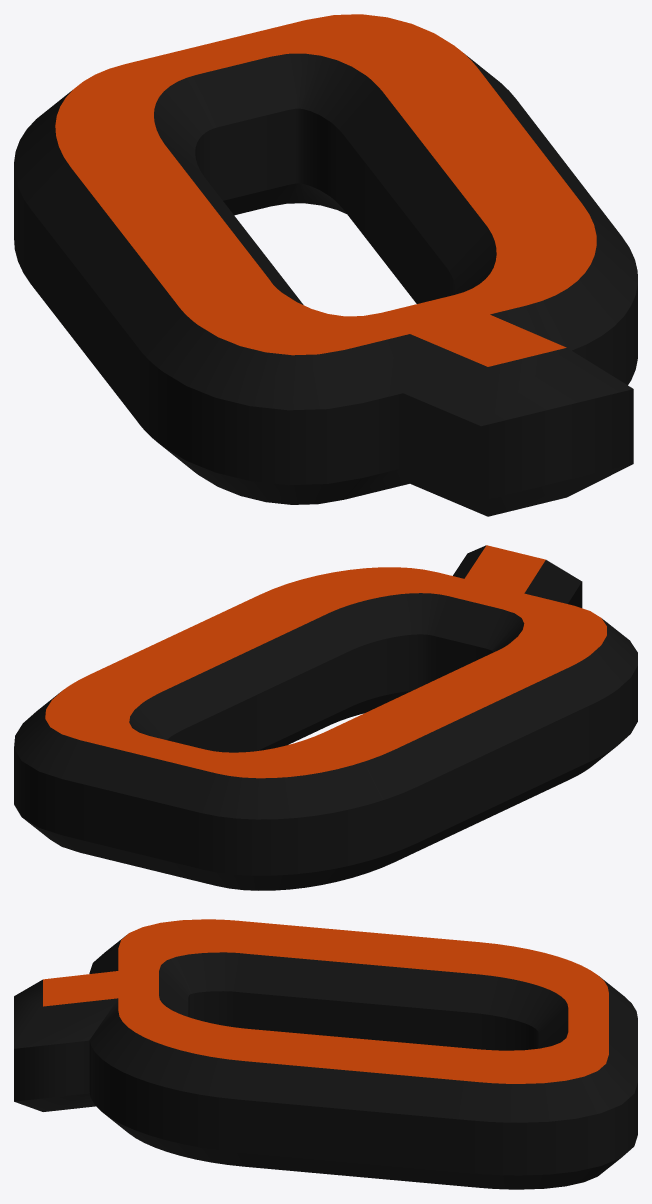
3 renders of one model, top to bottom at view 1: azimuth 30°, elevation 25°; view 2: azimuth 150°, elevation 25°; view 3: azimuth 270°, elevation 25°, orthographic. The views are drawn at different scales.
Visible parts, largest first — view 1: Text; view 2: Text; view 3: Text.
Boxes of the visible parts, <box> form: Text: <box>14,14,637,516</box>; Text: <box>14,545,637,890</box>; Text: <box>14,919,637,1189</box>.
Bounding box in the file's own units: 0.6151 × 0.16 × 0.8567.
